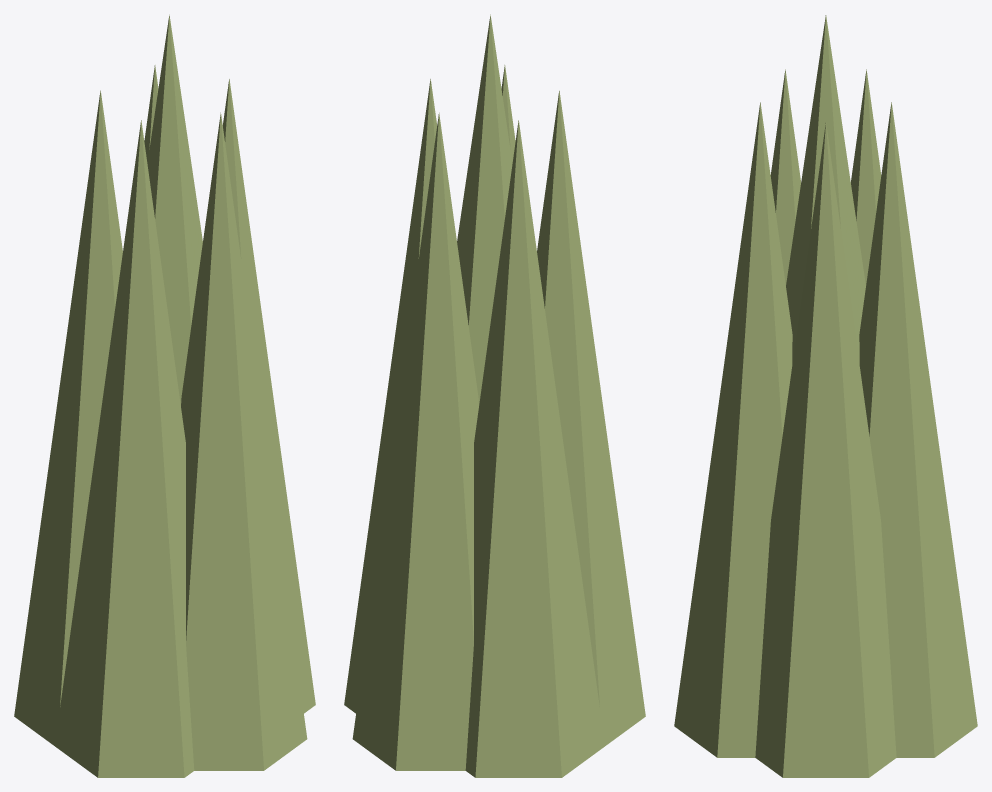
File: ornamental_grass.glb
3 renders of one model, left to right at view 1: azimuth 30°, elevation 25°; view 2: azimuth 150°, elevation 25°; view 3: azimuth 270°, elevation 25°, orthographic.
Visible parts, largest first — view 1: OrnamentalGrass; view 2: OrnamentalGrass; view 3: OrnamentalGrass.
Boxes of the visible parts, left/top/right/bottom form: OrnamentalGrass: left=14, top=14, right=315, bottom=777; OrnamentalGrass: left=344, top=14, right=645, bottom=777; OrnamentalGrass: left=674, top=15, right=977, bottom=777.
Bounding box in the file's own units: 0.3179 × 0.9 × 0.3522.
